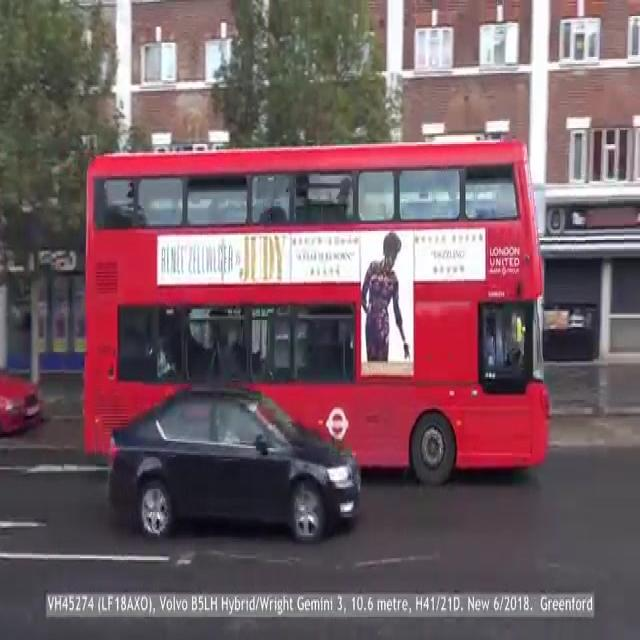bus: (46, 135, 592, 496)
